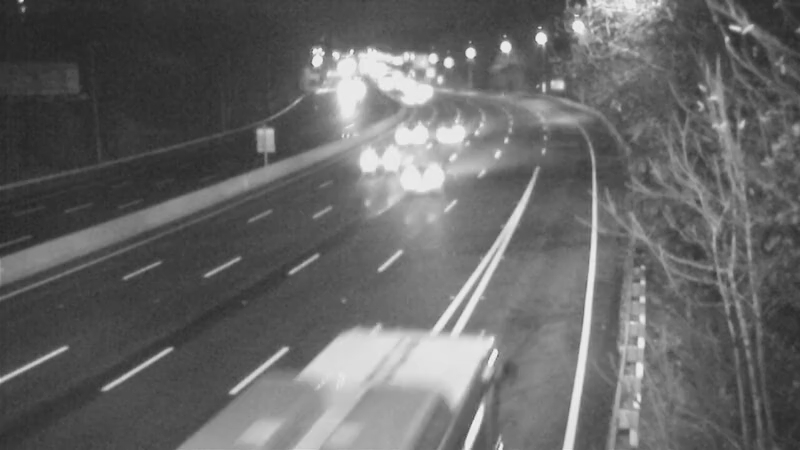vehicle: (285, 353, 395, 450), (340, 116, 420, 196), (385, 140, 465, 220), (386, 71, 436, 121), (423, 104, 473, 154), (379, 103, 429, 153)
